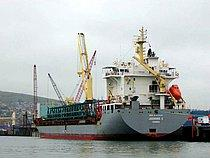Ship: (22, 21, 193, 143)
